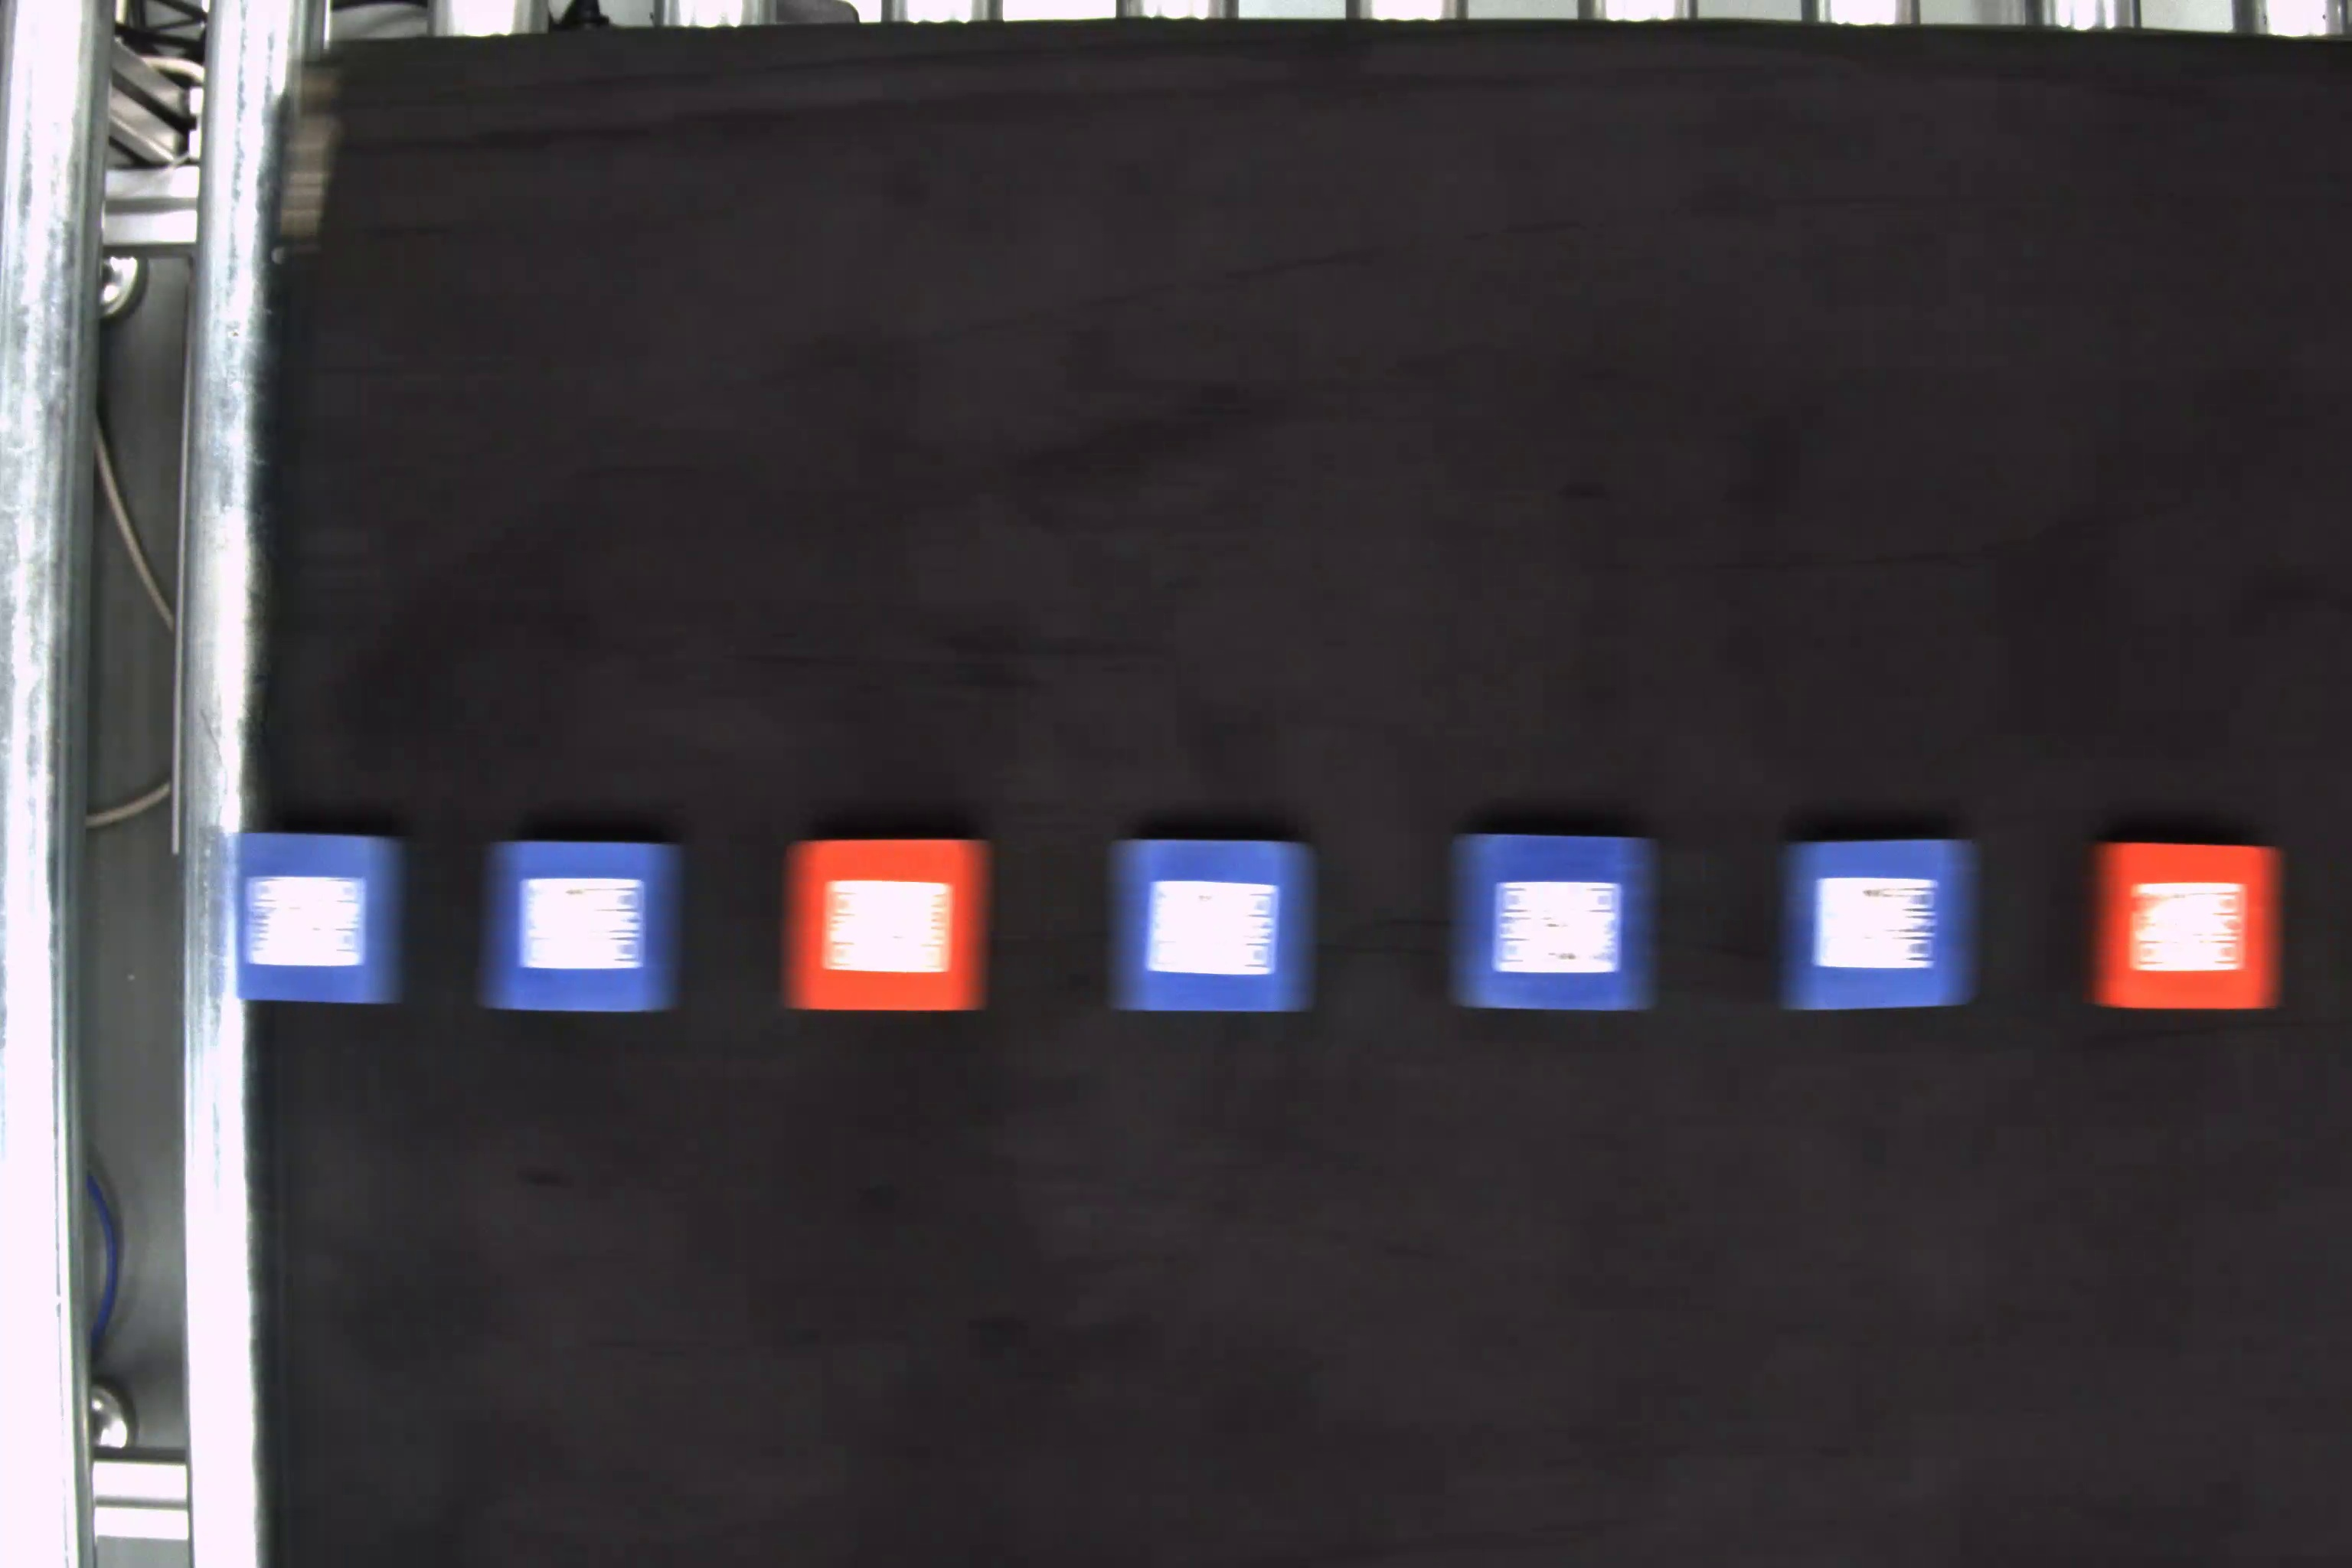wood: (1452, 826, 1669, 1013), (1102, 835, 1319, 1015), (784, 836, 997, 1013), (2089, 835, 2287, 1011), (481, 842, 684, 1013), (1781, 840, 1979, 1013), (226, 831, 404, 1011)
